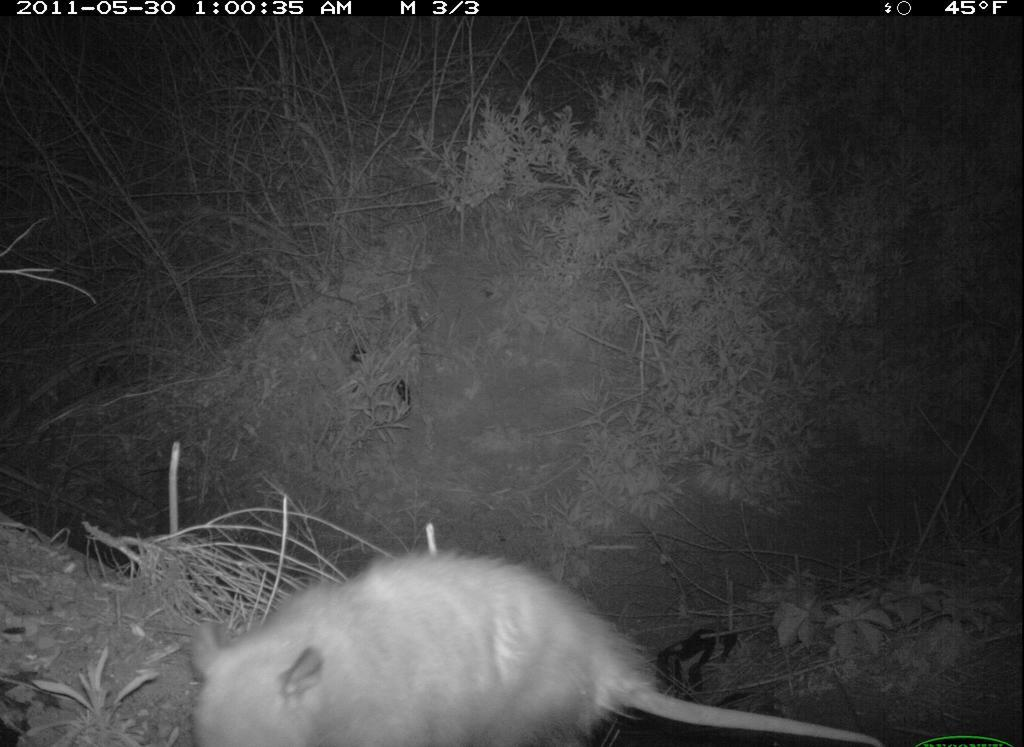opossum: (153, 521, 871, 747)
